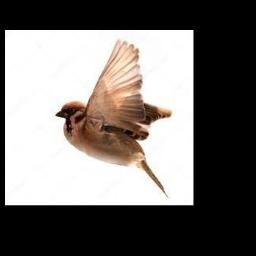Sparrow: (56, 38, 171, 198)
